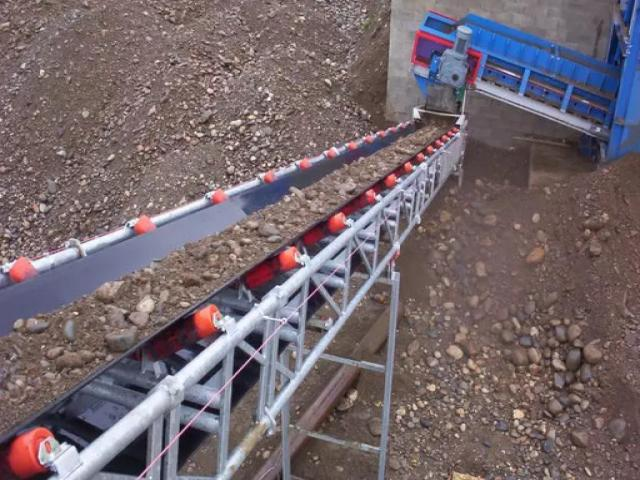conveyor: (0, 109, 470, 479)
